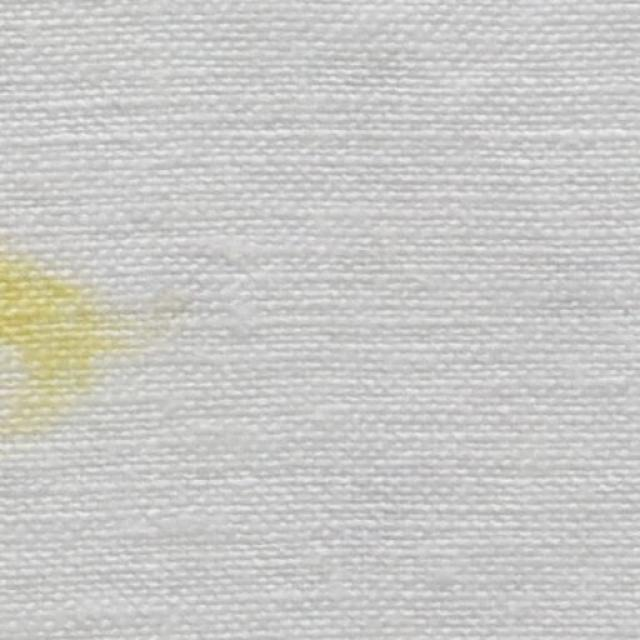Stain: (0, 241, 189, 439)
